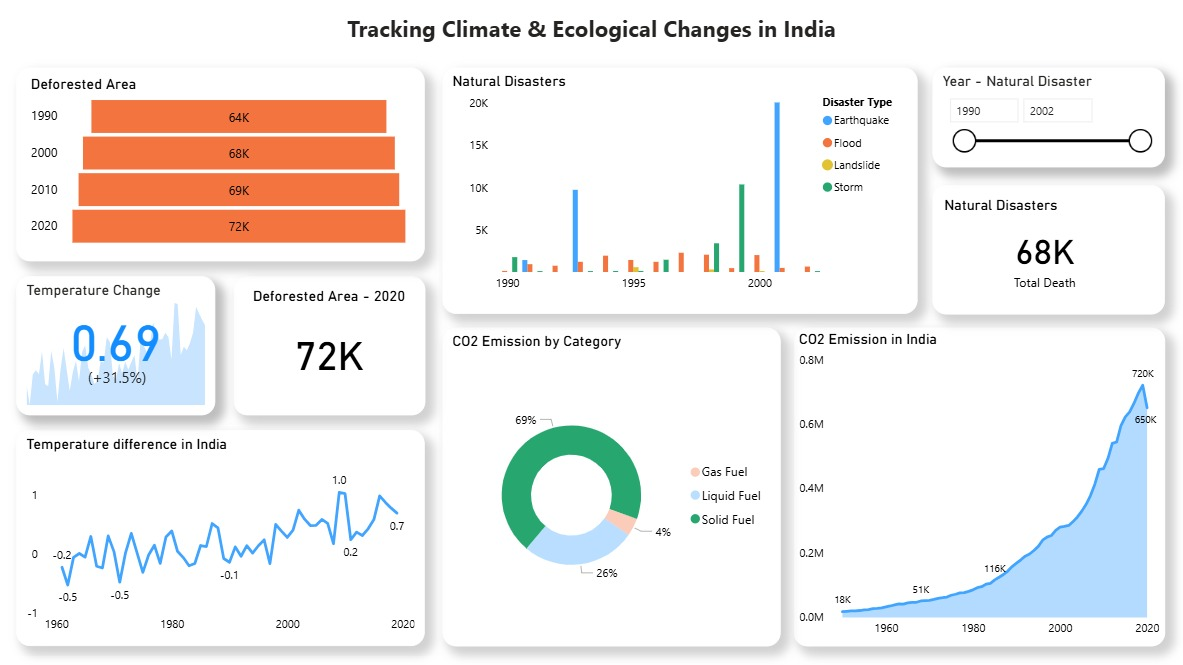

The page's visual inventory and layout, read from the dashboard file:
{"tool":"powerbi","page":{"name":"Page 1","canvas":[1280,720],"ordinal":0},"visuals":[{"type":"areaChart","title":"CO2 Emission in India ","fields":{"Category":["CO2 Emission by Category.Year"],"Y":["Sum(CO2 Emission by Category.Total)"]},"box":[858.3,354.2,401.4,344.4],"z":0},{"type":"donutChart","title":"CO2 Emission by Category","fields":{"Y":["Sum(CO2 Emission by Category.Sum of gas fuel)","Sum(CO2 Emission by Category.Sum of liquid fuel)","Sum(CO2 Emission by Category.Sum of solid fuel)"]},"box":[477.8,354.2,365.3,344.4],"z":1000},{"type":"card","title":"Deforested Area - 2020","fields":{"Values":["Deforestration - 2020.Area affected on 2020"]},"box":[252.8,298.6,206.9,150],"z":2000},{"type":"lineChart","title":"Temperature difference in India","fields":{"Category":["MY DATA.Year"],"Y":["Sum(MY DATA.Temperature Change)"]},"box":[18.1,465.3,441.7,233.3],"z":3000},{"type":"clusteredColumnChart","title":"Natural Disasters ","fields":{"Category":["DISASTERS.Year"],"Y":["Sum(DISASTERS.Total Deaths)"],"Series":["DISASTERS.Disaster Type"]},"box":[477.8,73.6,513.9,266.7],"z":4000},{"type":"card","title":"Natural Disasters","fields":{"Values":["Sum(DISASTERS.Total Deaths)"]},"box":[1008.3,200,251.4,140.3],"z":5000},{"type":"funnel","title":"Deforested Area ","fields":{"Y":["Sum(Deforestration - 1990.1990)","Sum(Deforestration - 2000.2000)","Sum(Deforestrtaion - 2010.2010)","Sum(Deforestration - 2020.2020)"]},"box":[18.1,73.6,441.7,209.7],"z":6000},{"type":"textbox","box":[365.3,9.3,549.3,48],"z":7000},{"type":"slicer","title":"Year - Natural Disaster","fields":{"Values":["DISASTERS.Year"]},"box":[1008.3,73.6,251.4,108.3],"z":8000},{"type":"kpi","title":"Temperature Change","fields":{"Indicator":["Sum(Temperature Change.Temperature Change)"],"TrendLine":["Temperature Change.Year"],"Goal":["CountNonNull(Temperature Change.Region)"]},"box":[18.1,298.6,215.3,150],"z":9000}]}

Visuals, with their boxes in screenshot pixels (x1, y1, x2, y2), scaled from the page's 1280x720 canvas onto the 1183x665 screenshot:
"CO2 Emission in India " areaChart: 793/327/1164/645
"CO2 Emission by Category" donutChart: 442/327/779/645
"Deforested Area - 2020" card: 234/276/425/414
"Temperature difference in India" lineChart: 17/430/425/645
"Natural Disasters " clusteredColumnChart: 442/68/917/314
"Natural Disasters" card: 932/185/1164/314
"Deforested Area " funnel: 17/68/425/262
textbox: 338/9/845/53
"Year - Natural Disaster" slicer: 932/68/1164/168
"Temperature Change" kpi: 17/276/216/414
